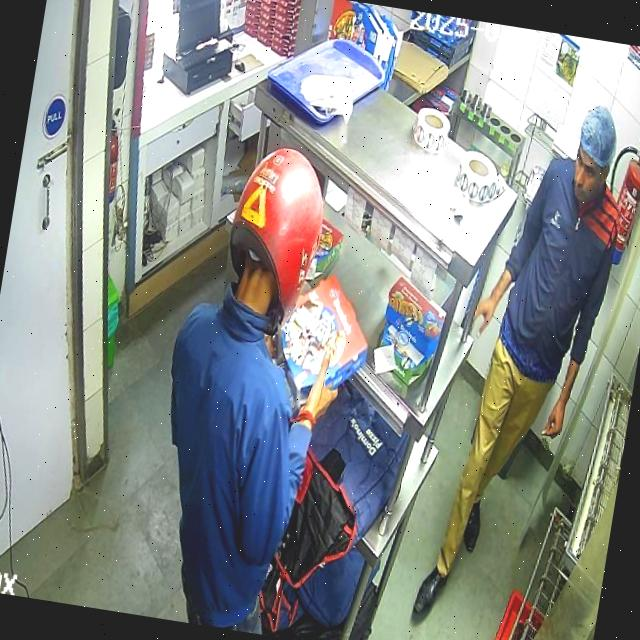helmet: (227, 148, 324, 335)
no_helmet: (573, 106, 616, 202)
